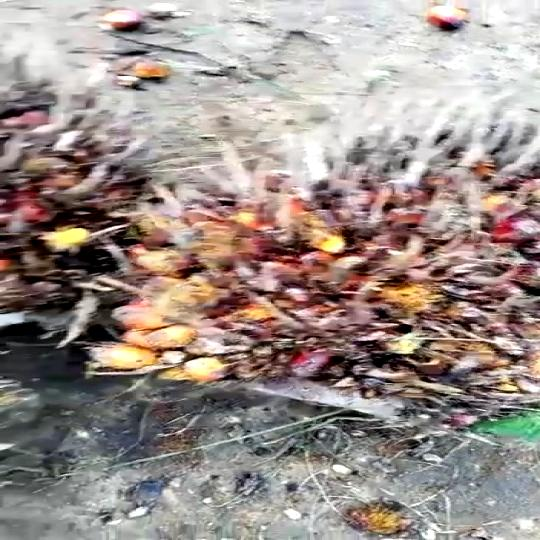terlalu masak: (66, 98, 540, 428)
